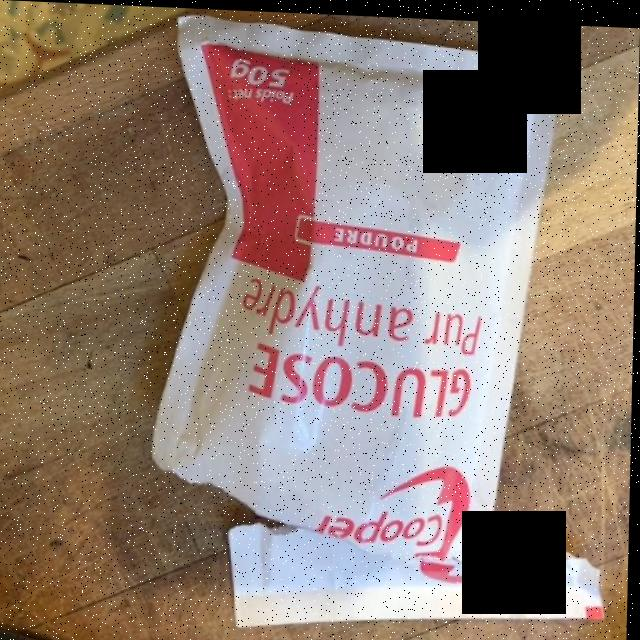glucose-drink-50g: (176, 32, 555, 585)
